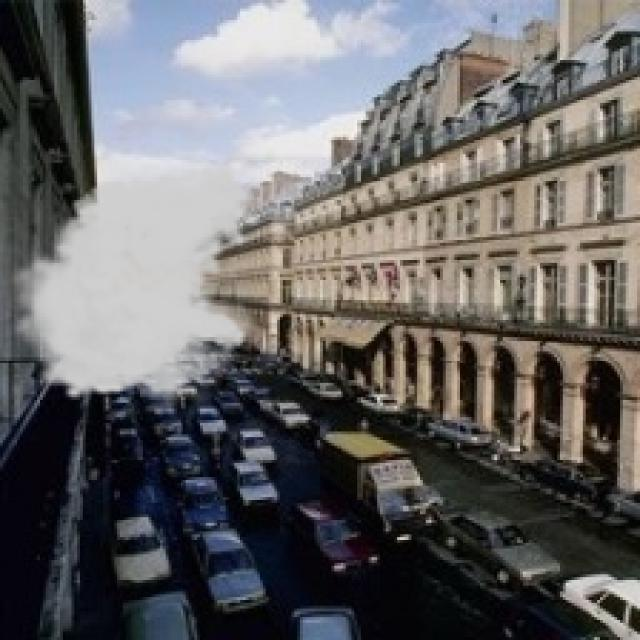Smoke: (3, 163, 263, 414)
